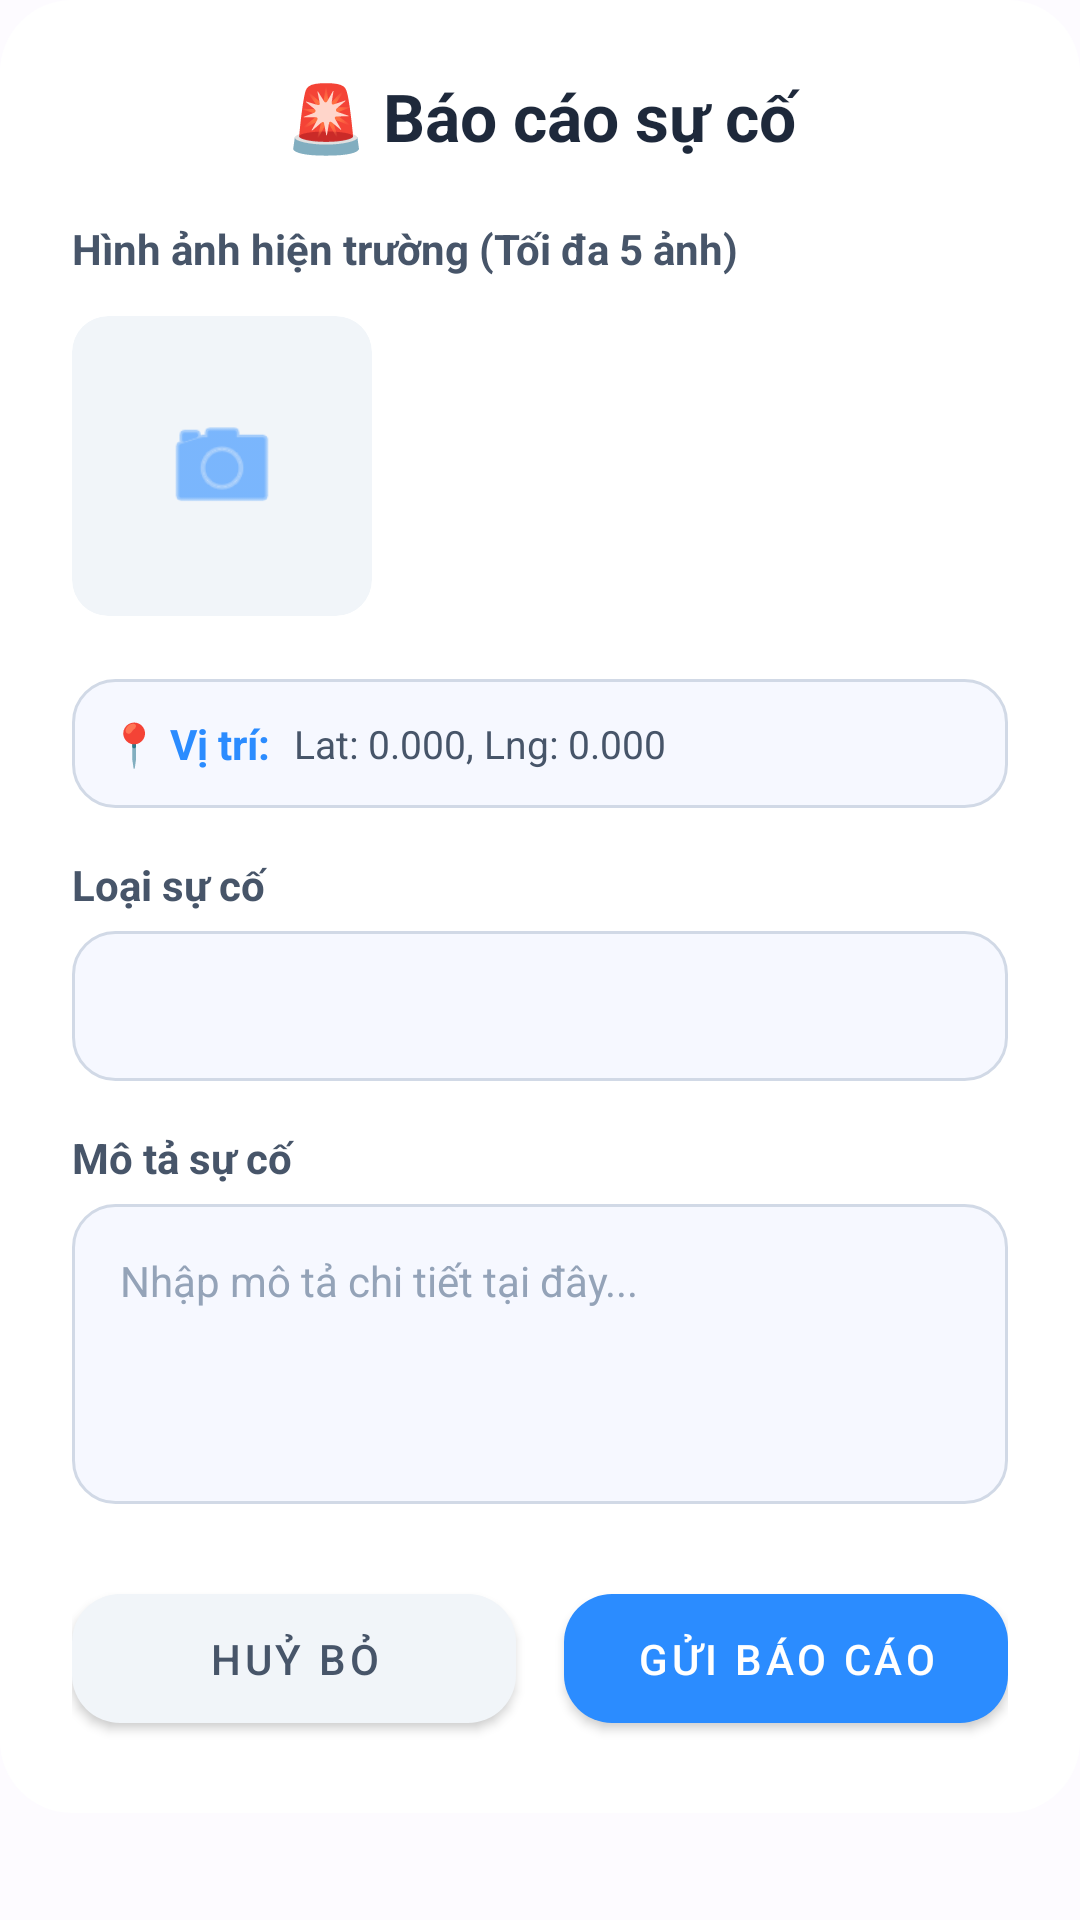

Point at icon controls on the screen. Image size 1080x1920, points as point (x, y).
camera: point (222, 464)
